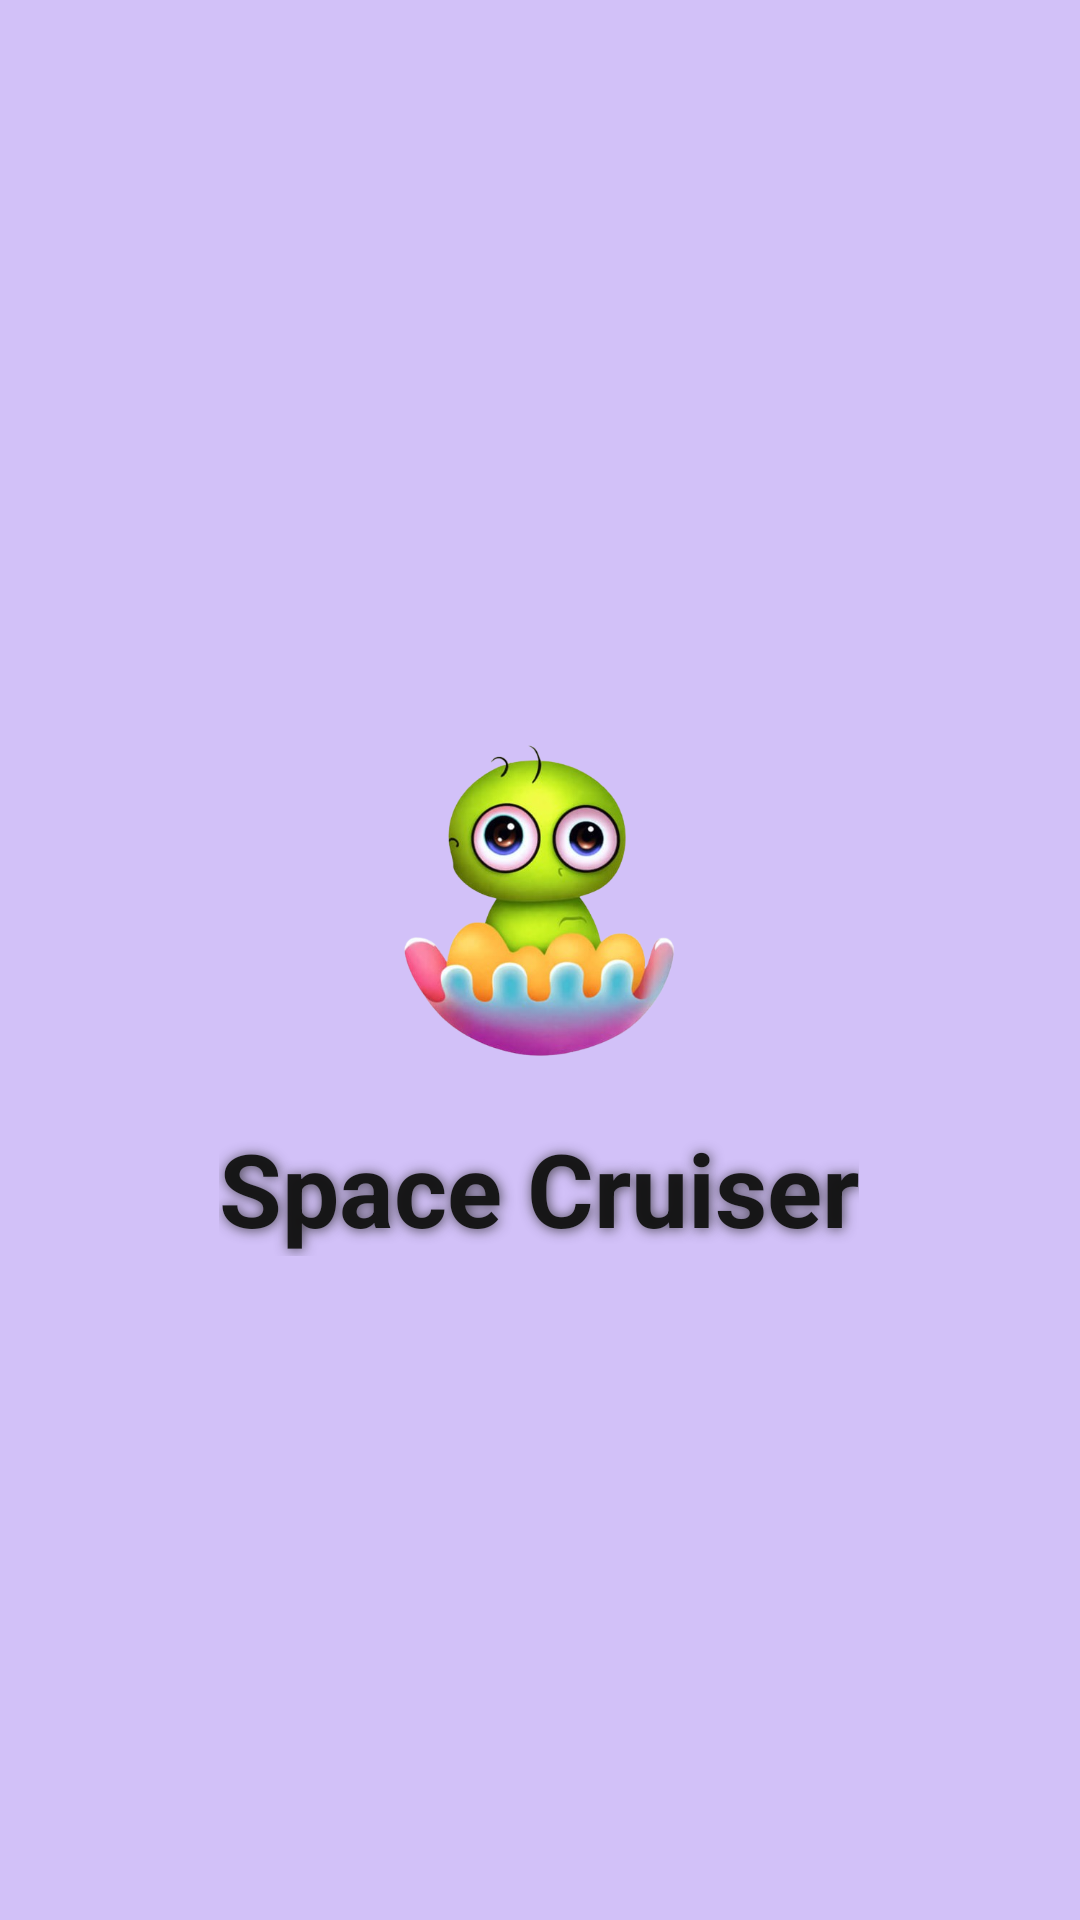

Icons on this 1080px×1920px Android screen, each with the point to tap as (x,y):
alien: (539,900)
